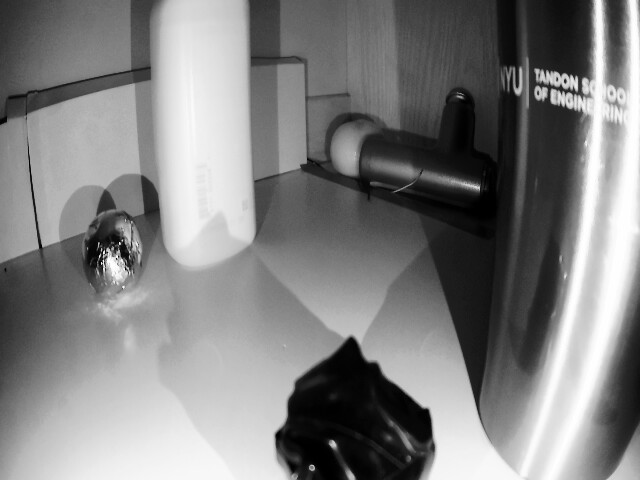black: (75, 202, 144, 304)
silver: (274, 346, 453, 480)
